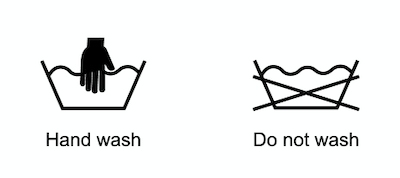do_not_wash: (244, 53, 366, 118)
